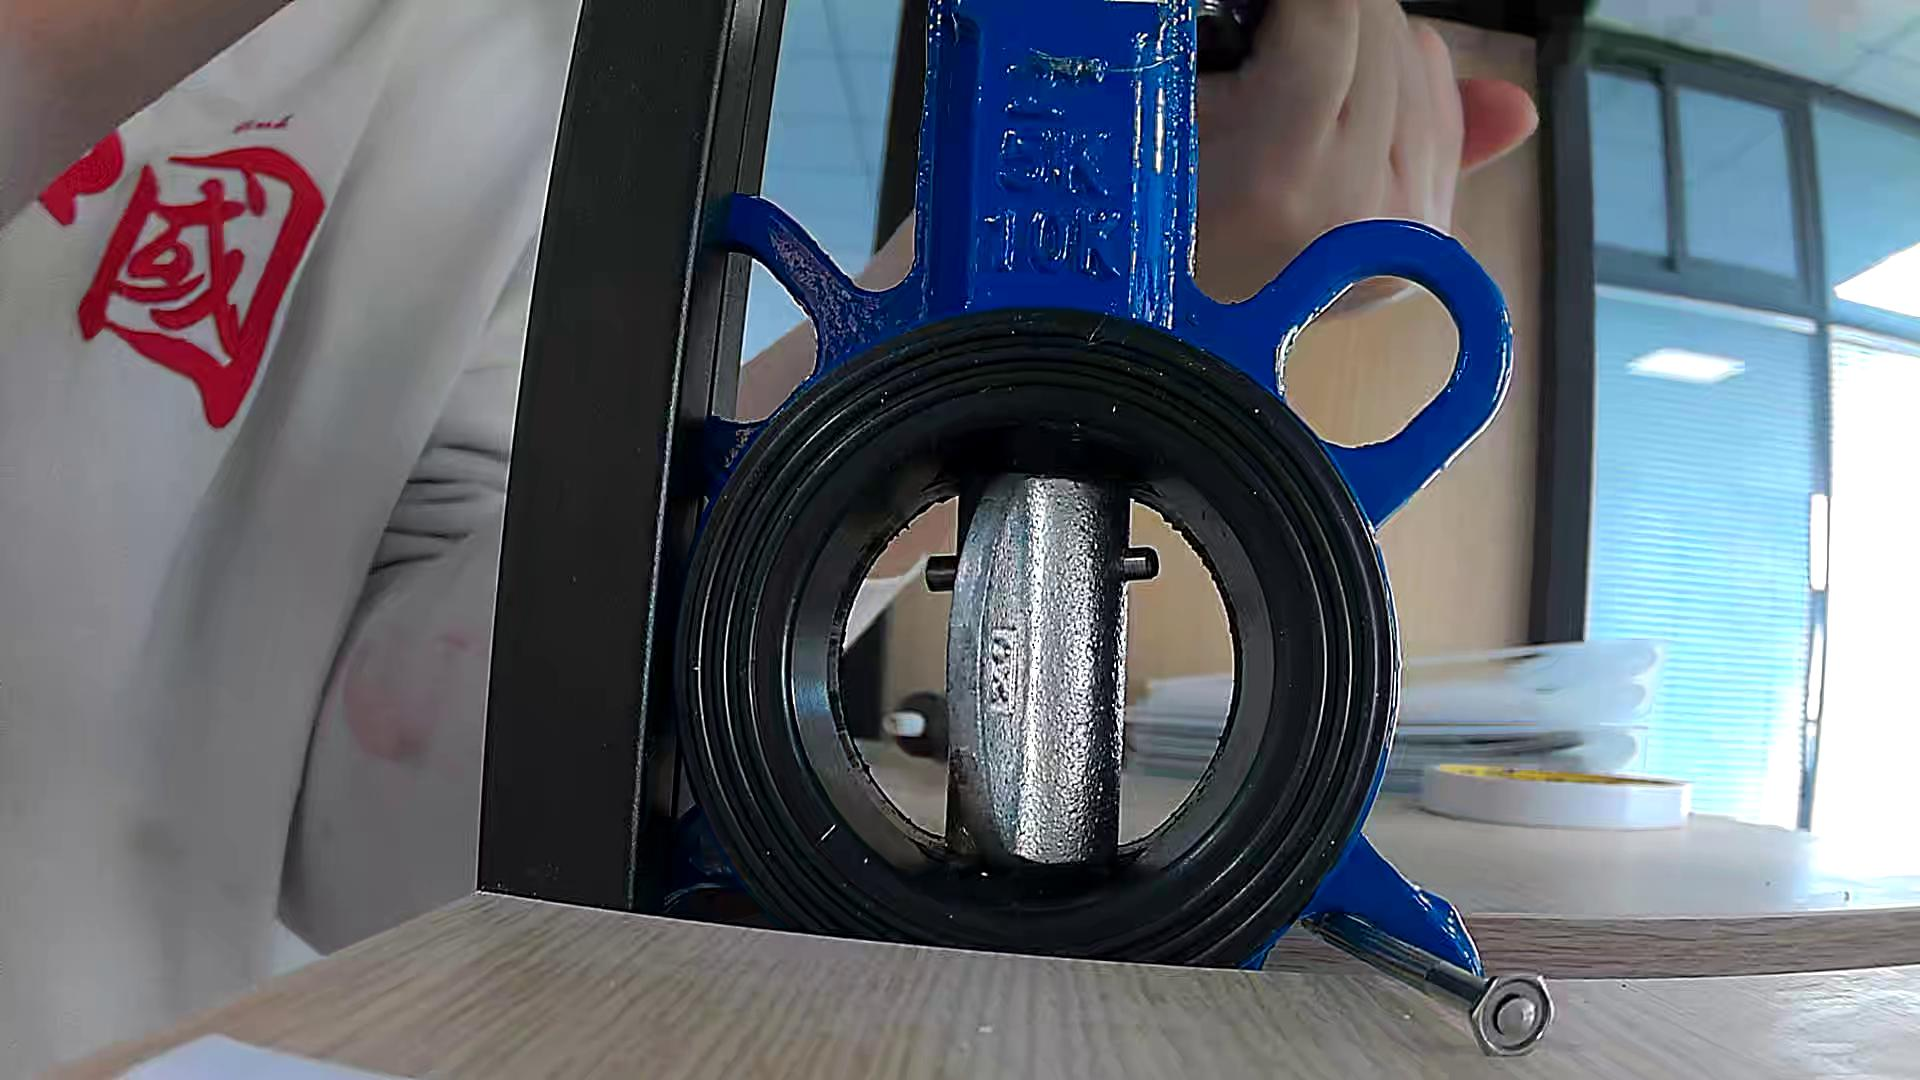valve: (945, 472, 1129, 866)
